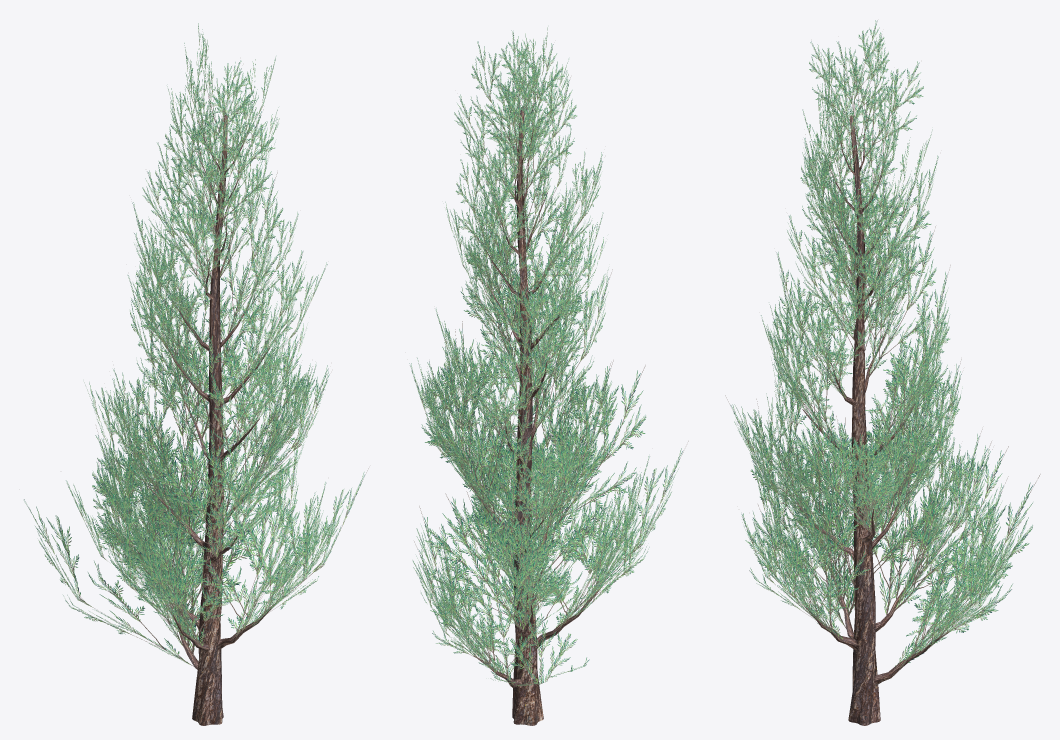
The model's file is juniper.glb.
3 renders of one model, left to right at view 1: azimuth 30°, elevation 25°; view 2: azimuth 150°, elevation 25°; view 3: azimuth 270°, elevation 25°, orthographic.
Visible parts, largest first — view 1: tree; view 2: tree; view 3: tree.
Boxes of the visible parts, bbox=[...] form: tree: bbox=[24, 23, 368, 725]; tree: bbox=[409, 27, 688, 725]; tree: bbox=[725, 20, 1040, 725].
Size of the model in its own units: 95.94 by 260 by 109.
Materials: 2 (2 with a texture image).
